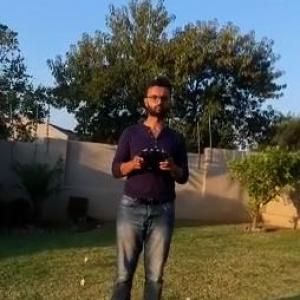follow: (107, 71, 201, 299)
